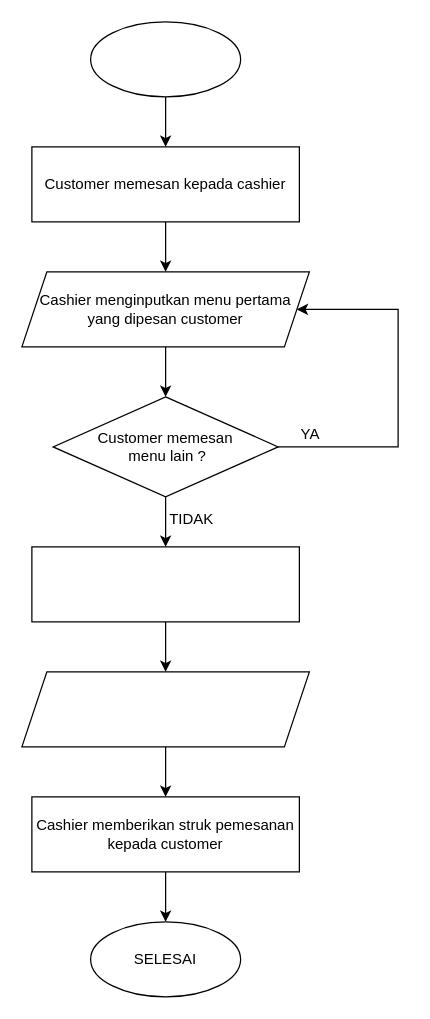
The diagram is 430 pixels wide and 1019 high, and some of its shapes have lost their labels. Each missing label, with the centre of its shape:
"Cashier mencetak struk pemesanan" belongs at pixel 165 709.
"Data pesanan masuk ke dalam database" belongs at pixel 165 584.
"MULAI" belongs at pixel 165 59.
